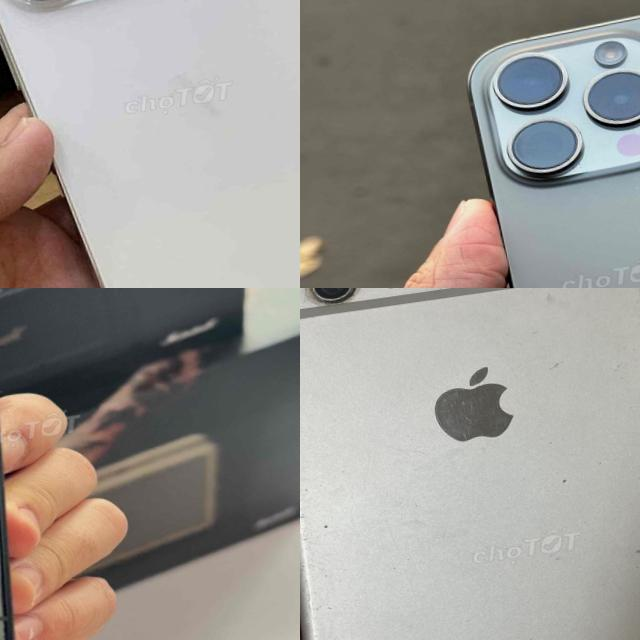scratch: (408, 340, 548, 466), (300, 288, 382, 318)
